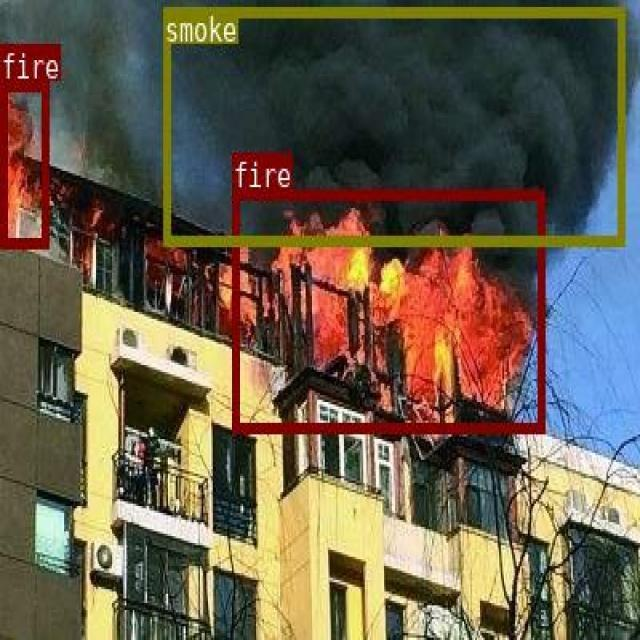fire: (232, 188, 543, 432), (0, 78, 46, 247)
smoke: (163, 6, 623, 243)
